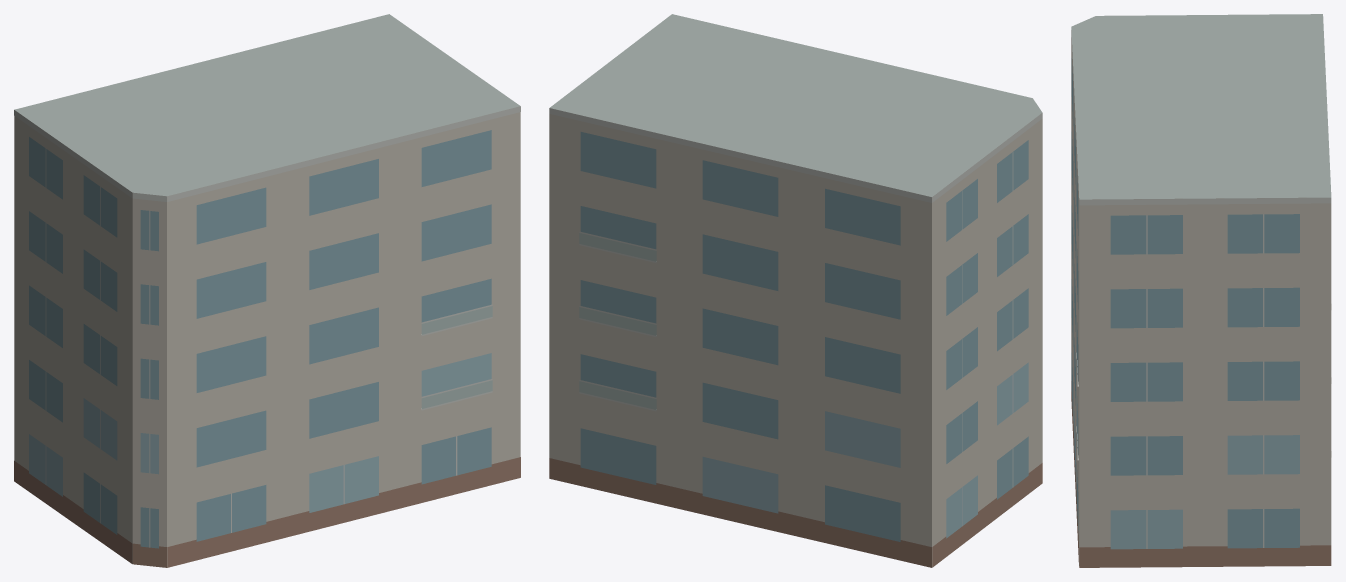
File: survey-upis-32669309.glb
The picture shows the model from 3 angles, left to right: view 1: azimuth 30°, elevation 25°; view 2: azimuth 150°, elevation 25°; view 3: azimuth 270°, elevation 25°; orthographic projection.
Parts seen in each view (by area): view 1: survey-upis-32669309.tmp; view 2: survey-upis-32669309.tmp; view 3: survey-upis-32669309.tmp.
Boxes of the visible parts, bbox=[...] form: survey-upis-32669309.tmp: bbox=[14, 14, 520, 567]; survey-upis-32669309.tmp: bbox=[549, 14, 1042, 567]; survey-upis-32669309.tmp: bbox=[1071, 14, 1331, 567].
Bounding box in the file's own units: 16.76 × 15.5 × 9.94.
